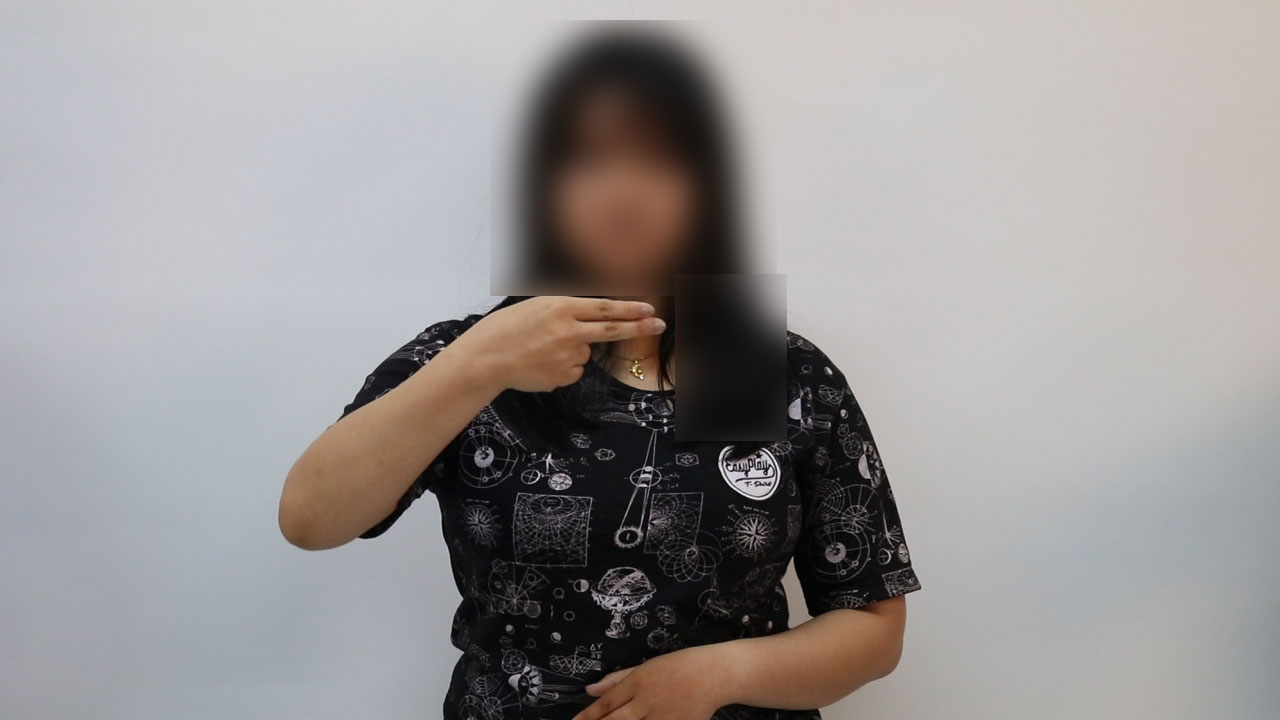hor: (465, 278, 682, 404)
